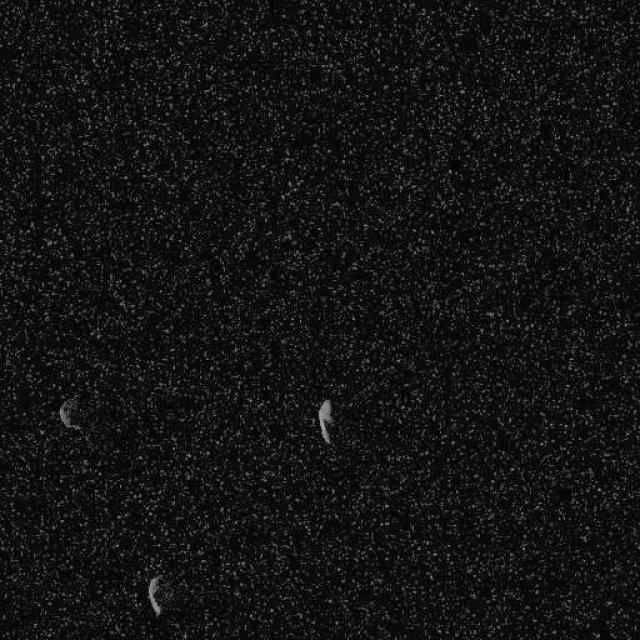D2: (56, 398, 82, 432), (316, 397, 334, 445), (146, 574, 164, 616)
